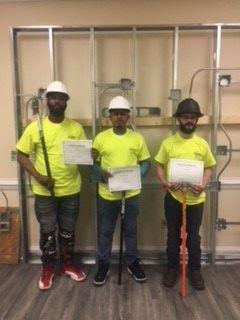helmet: (173, 98, 207, 119), (44, 81, 72, 99), (109, 97, 132, 112)
